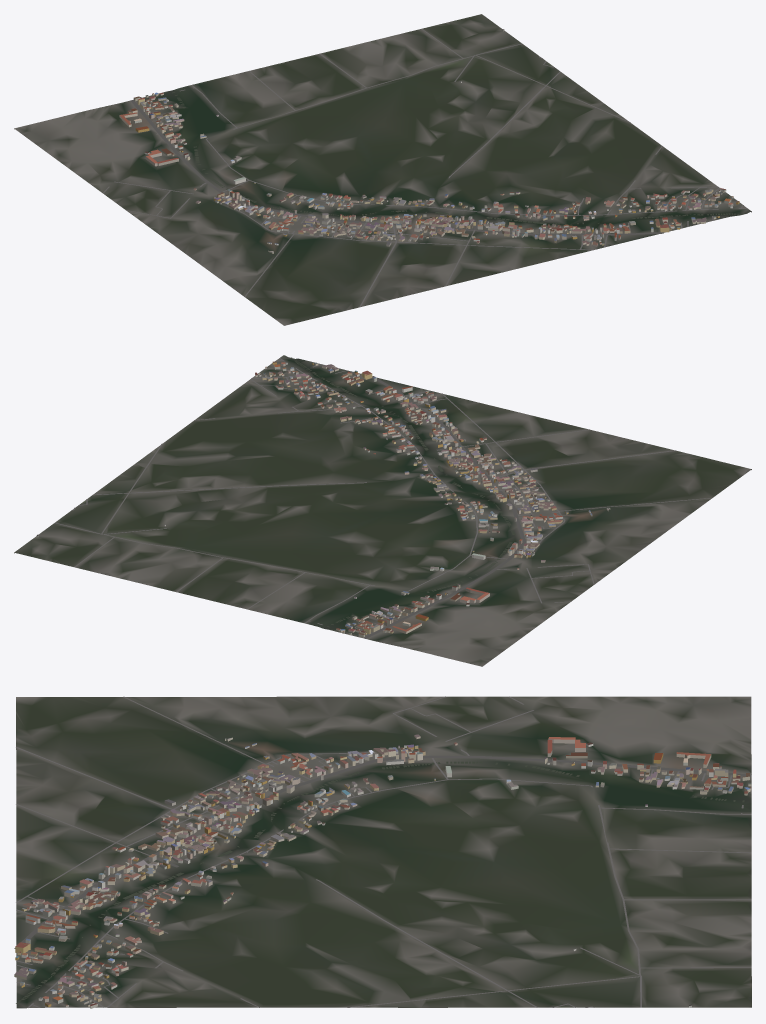
The picture shows the model from 3 angles, top to bottom: view 1: azimuth 30°, elevation 25°; view 2: azimuth 150°, elevation 25°; view 3: azimuth 270°, elevation 25°; orthographic projection. The views are drawn at different scales.
Visible parts, largest first — view 1: ground, buildings, roads, water; view 2: ground, buildings, roads, water; view 3: ground, buildings, roads, water.
Boxes of the visible parts, x1,y1,x2,y2 form: ground: (14, 14, 751, 325); buildings: (119, 29, 739, 253); roads: (103, 28, 747, 307); water: (172, 92, 744, 224); ground: (14, 355, 751, 666); buildings: (36, 361, 610, 637); roads: (55, 358, 712, 638); water: (289, 357, 515, 627); ground: (16, 696, 751, 1008); buildings: (14, 734, 751, 1008); roads: (14, 696, 751, 1007); water: (16, 761, 744, 1004).
Bounding box in the file's own units: 1410 × 22.46 × 1407.
